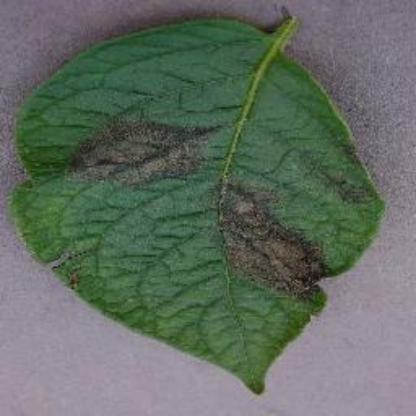Late-Blight: (10, 15, 392, 398)
